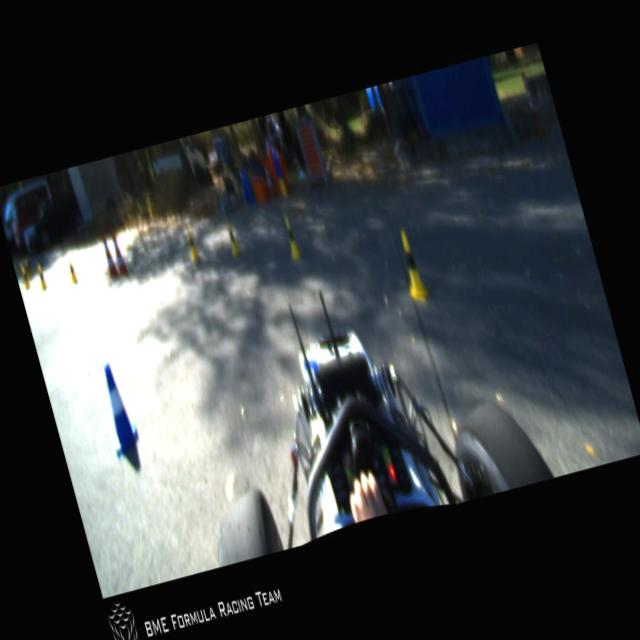blue_cone: (93, 361, 142, 458), (268, 144, 278, 162), (240, 163, 248, 178), (237, 166, 244, 182)
large_orange_cone: (108, 228, 130, 277), (98, 232, 119, 278)
orange_cone: (263, 135, 271, 152)
yellow_cone: (392, 227, 430, 304), (280, 215, 303, 262), (224, 220, 241, 256), (183, 226, 199, 260), (34, 261, 48, 290), (66, 258, 78, 284), (20, 266, 30, 289)
